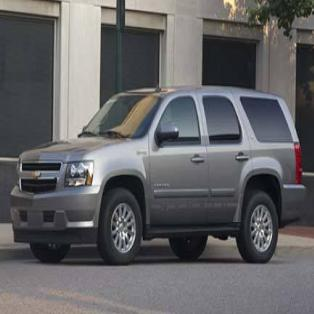Auto: (8, 83, 304, 271)
